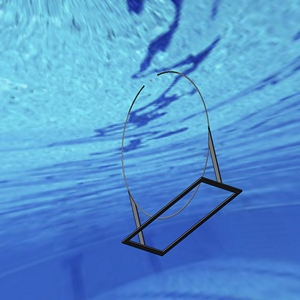circle: (118, 68, 242, 255)
